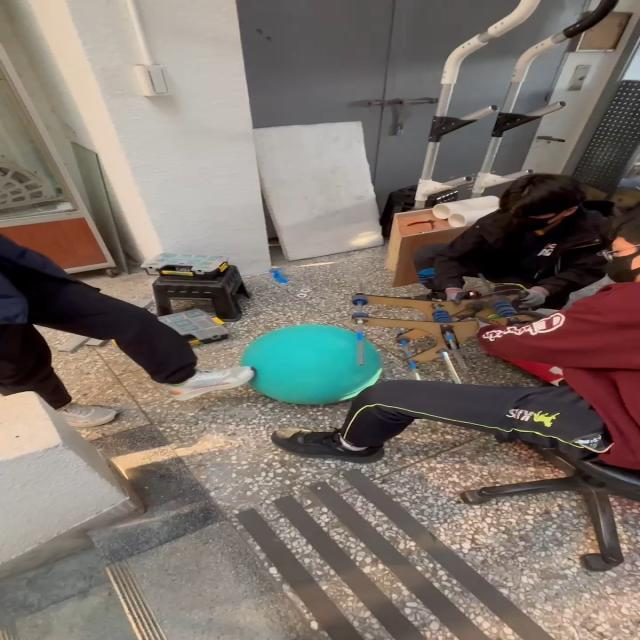ALGAE: (238, 323, 384, 406)
